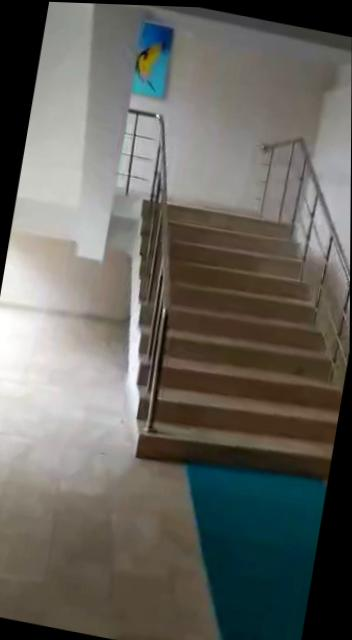Bench: (95, 190, 351, 488)
